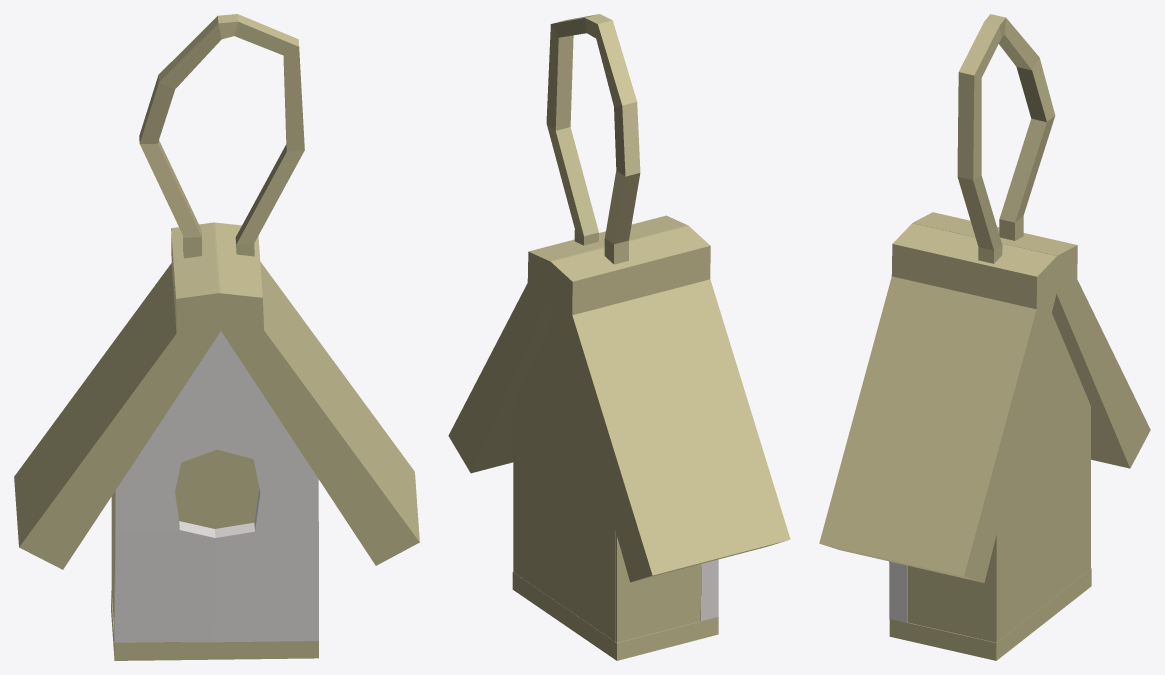
The model's file is Backyard_Feeder.fbx.
3 views of the same model, side by side, from view 1: azimuth 30°, elevation 25°; view 2: azimuth 150°, elevation 25°; view 3: azimuth 270°, elevation 25° (orthographic). The views are drawn at different scales.
Parts seen in each view (by area): view 1: Backyard_Feeder; view 2: Backyard_Feeder; view 3: Backyard_Feeder.
Part boxes in pixels (x1,y1,x2,y2): Backyard_Feeder: [14, 14, 419, 660]; Backyard_Feeder: [448, 14, 790, 660]; Backyard_Feeder: [819, 14, 1150, 660].
Size of the model in its own units: 42.39 by 33.09 by 65.95.
